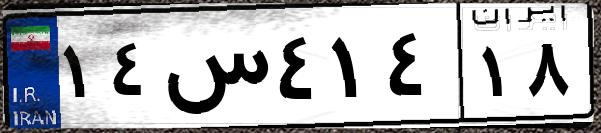1: (330, 28, 385, 110), (57, 26, 110, 100), (475, 38, 525, 113)
4: (270, 28, 330, 110), (385, 28, 445, 110), (110, 28, 158, 98)
8: (525, 38, 570, 115)
س: (158, 20, 270, 120)
